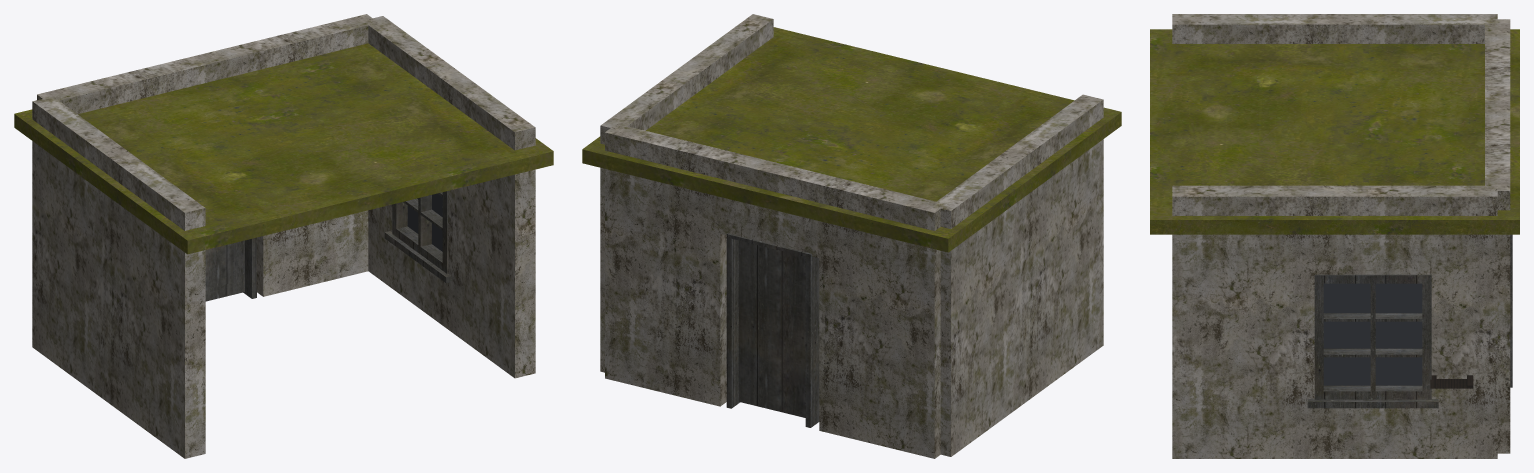
File: Module_Annex.fbx
The picture shows the model from 3 angles, left to right: view 1: azimuth 30°, elevation 25°; view 2: azimuth 150°, elevation 25°; view 3: azimuth 270°, elevation 25°; orthographic projection. The views are drawn at different scales.
Visible parts, largest first — view 1: BAND_annex, ANNEX_WEST_pier_0, ANNEX_EAST_pier_0, ANNEX_BACK_pier_1, ANNEX_BACK_pier_0, ANNEX_BACK_lintel_0, ANNEX_EAST_pier_1, ANNEX_EAST_sill_0, ANNEX_EAST_lintel_0, DOOR_annex_panel_0_0, WIN_kitchen_broken_frame_bottom, DOOR_annex_leaf_0 (+5 smaller); view 2: BAND_annex, ANNEX_WEST_pier_0, ANNEX_BACK_pier_0, ANNEX_BACK_pier_1, DOOR_annex_leaf_0, ANNEX_BACK_lintel_0, ANNEX_EAST_pier_0, DOOR_annex_frame_l, DOOR_annex_frame_r, ANNEX_EAST_lintel_0, ANNEX_EAST_pier_1; view 3: BAND_annex, ANNEX_EAST_pier_0, ANNEX_EAST_pier_1, ANNEX_WEST_pier_0, ANNEX_EAST_lintel_0, WIN_kitchen_broken_glass, ANNEX_EAST_sill_0, ANNEX_BACK_pier_1, WIN_kitchen_broken_frame_bottom, ANNEX_BACK_pier_0, ANNEX_BACK_lintel_0, WIN_kitchen_broken_sill (+8 smaller).
Part boxes in pixels (x1=…): BAND_annex: x1=14, y1=43, x2=553, y2=254; ANNEX_WEST_pier_0: x1=32, y1=96, x2=205, y2=458; ANNEX_EAST_pier_0: x1=448, y1=78, x2=535, y2=378; ANNEX_BACK_pier_1: x1=251, y1=14, x2=378, y2=296; ANNEX_BACK_pier_0: x1=37, y1=66, x2=164, y2=114; ANNEX_BACK_lintel_0: x1=153, y1=42, x2=263, y2=92; ANNEX_EAST_pier_1: x1=363, y1=16, x2=413, y2=288; ANNEX_EAST_sill_0: x1=393, y1=245, x2=448, y2=329; ANNEX_EAST_lintel_0: x1=393, y1=38, x2=468, y2=101; DOOR_annex_panel_0_0: x1=205, y1=242, x2=238, y2=289; WIN_kitchen_broken_frame_bottom: x1=392, y1=226, x2=448, y2=272; DOOR_annex_leaf_0: x1=205, y1=240, x2=244, y2=301; BAND_annex: x1=582, y1=27, x2=1121, y2=252; ANNEX_WEST_pier_0: x1=932, y1=94, x2=1103, y2=456; ANNEX_BACK_pier_0: x1=819, y1=176, x2=945, y2=458; ANNEX_BACK_pier_1: x1=605, y1=124, x2=731, y2=406; DOOR_annex_leaf_0: x1=738, y1=240, x2=805, y2=417; ANNEX_BACK_lintel_0: x1=720, y1=152, x2=830, y2=257; ANNEX_EAST_pier_0: x1=686, y1=14, x2=773, y2=85; DOOR_annex_frame_l: x1=805, y1=252, x2=819, y2=427; DOOR_annex_frame_r: x1=726, y1=233, x2=740, y2=408; ANNEX_EAST_lintel_0: x1=632, y1=63, x2=706, y2=125; ANNEX_EAST_pier_1: x1=600, y1=103, x2=651, y2=372; BAND_annex: x1=1150, y1=29, x2=1519, y2=234; ANNEX_EAST_pier_0: x1=1172, y1=185, x2=1314, y2=458; ANNEX_EAST_pier_1: x1=1431, y1=185, x2=1497, y2=458; ANNEX_WEST_pier_0: x1=1172, y1=14, x2=1497, y2=43; ANNEX_EAST_lintel_0: x1=1314, y1=185, x2=1431, y2=274; WIN_kitchen_broken_glass: x1=1323, y1=283, x2=1422, y2=385; ANNEX_EAST_sill_0: x1=1314, y1=408, x2=1431, y2=458; ANNEX_BACK_pier_1: x1=1485, y1=131, x2=1510, y2=453; WIN_kitchen_broken_frame_bottom: x1=1315, y1=385, x2=1430, y2=399; ANNEX_BACK_pier_0: x1=1485, y1=19, x2=1510, y2=79; ANNEX_BACK_lintel_0: x1=1485, y1=79, x2=1510, y2=130; WIN_kitchen_broken_sill: x1=1307, y1=399, x2=1438, y2=408.
Size of the model in its own units: 444 by 285 by 364.
5 materials, 4 textured.
